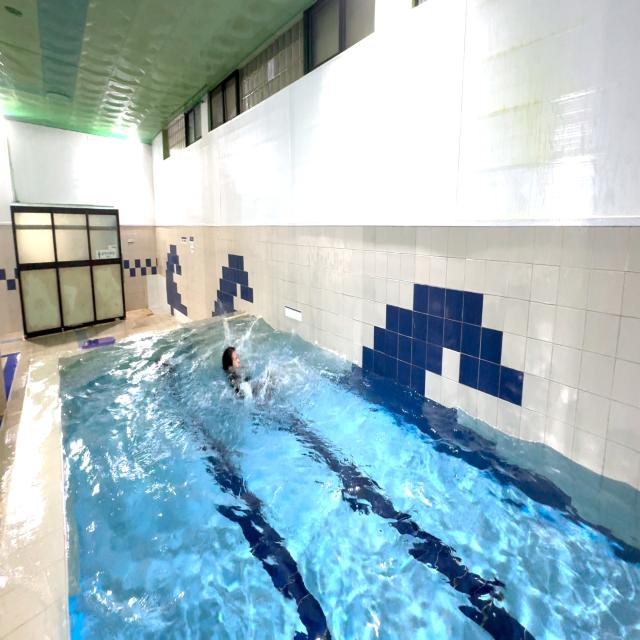Swimming: (220, 322, 271, 417)
